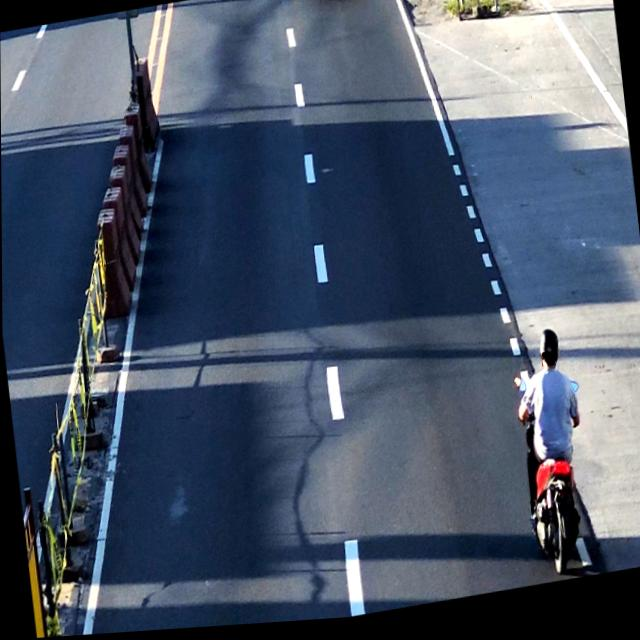Motorcycle: (502, 325, 596, 594)
